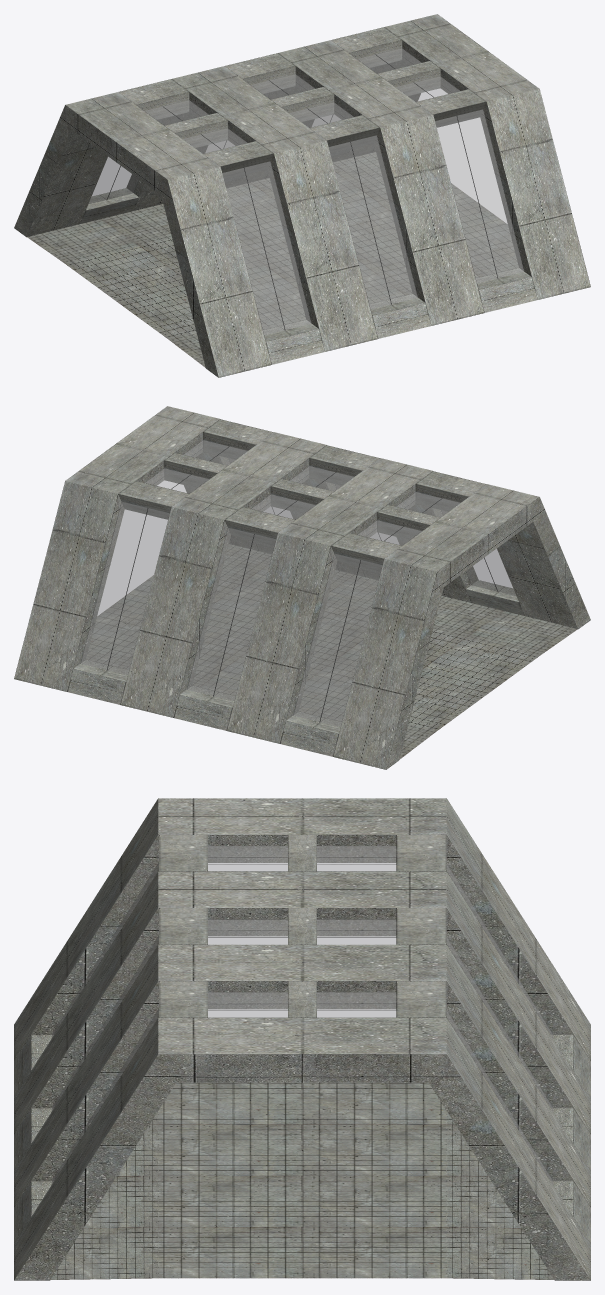
3 renders of one model, top to bottom at view 1: azimuth 30°, elevation 25°; view 2: azimuth 150°, elevation 25°; view 3: azimuth 270°, elevation 25°, orthographic. The views are drawn at different scales.
Visible parts, largest first — view 1: Cylinder.014, Cylinder.007, Cylinder.009, Cylinder.011, Cylinder.013, Cylinder.002, Cylinder.008, Cylinder.001, Cube.004, Cube, Cube.005, Cube.014 (+9 smaller); view 2: Cylinder.014, Cylinder.007, Cylinder.009, Cylinder.013, Cylinder.011, Cylinder.002, Cylinder.008, Cylinder.001, Cube.002, Cube.003, Cube.001, Cube.007 (+9 smaller); view 3: Cylinder.014, Cylinder.013, Cylinder.011, Cylinder.009, Cylinder.007, Cylinder.001, Cylinder.002, Cylinder.008, Cube.008, Cube.013, Cube.014, Cube.007 (+11 smaller).
Part boxes in pixels (<box>): Cylinder.014: <box>27,152,518,367</box>; Cylinder.007: <box>14,92,271,377</box>; Cylinder.009: <box>126,66,377,351</box>; Cylinder.011: <box>240,40,484,325</box>; Cylinder.013: <box>346,14,590,299</box>; Cylinder.002: <box>89,100,311,334</box>; Cylinder.008: <box>206,74,417,308</box>; Cylinder.001: <box>312,48,524,283</box>; Cube.004: <box>369,294,431,338</box>; Cube: <box>263,320,324,364</box>; Cube.005: <box>476,268,537,312</box>; Cube.014: <box>331,27,402,67</box>; Cylinder.014: <box>86,544,577,759</box>; Cylinder.007: <box>333,484,590,769</box>; Cylinder.009: <box>227,458,478,743</box>; Cylinder.013: <box>14,406,258,691</box>; Cylinder.011: <box>120,432,364,717</box>; Cylinder.002: <box>293,492,515,726</box>; Cylinder.008: <box>187,466,398,700</box>; Cylinder.001: <box>80,440,292,675</box>; Cube.002: <box>173,686,235,730</box>; Cube.003: <box>67,659,129,704</box>; Cube.001: <box>280,711,341,756</box>; Cube.007: <box>415,471,485,511</box>; Cylinder.014: <box>51,1082,553,1279</box>; Cylinder.013: <box>14,1017,590,1280</box>; Cylinder.011: <box>14,944,590,1206</box>; Cylinder.009: <box>14,871,590,1133</box>; Cylinder.007: <box>14,798,590,1060</box>; Cylinder.001: <box>51,992,553,1183</box>; Cylinder.002: <box>51,846,553,1037</box>; Cylinder.008: <box>51,919,553,1110</box>; Cube.008: <box>396,835,446,871</box>; Cube.013: <box>396,908,446,944</box>; Cube.014: <box>396,981,446,1017</box>; Cube.007: <box>159,835,207,871</box>.
Bounding box in the file's own units: 4.2 × 1.73 × 4.
Materials: 4 (4 with a texture image).
